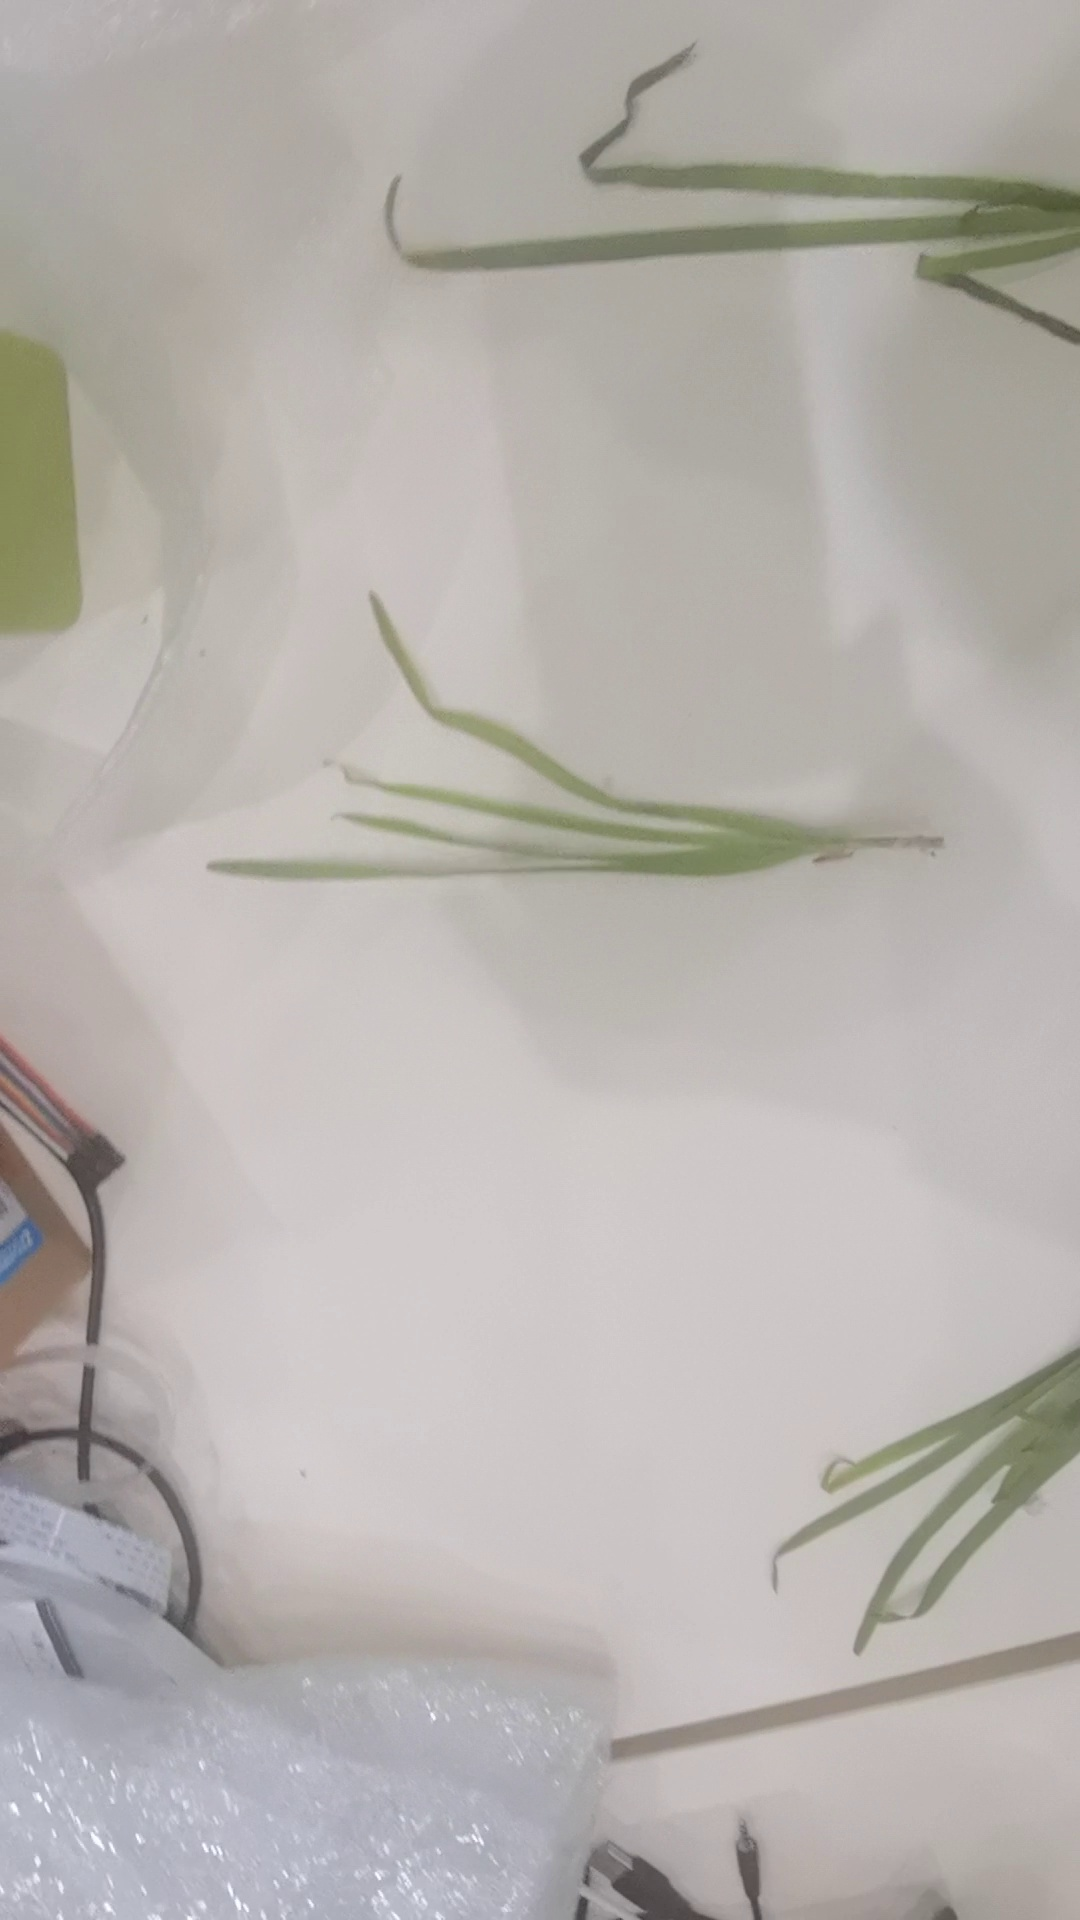chives: (220, 585, 955, 887), (382, 36, 1080, 339)
